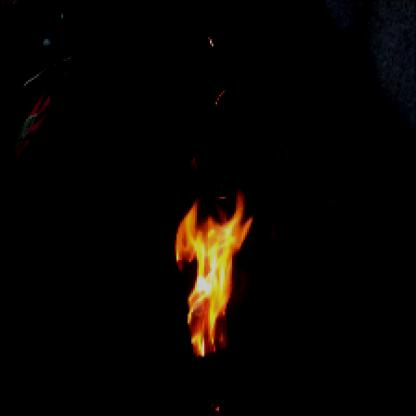Fire: (166, 184, 254, 360)
